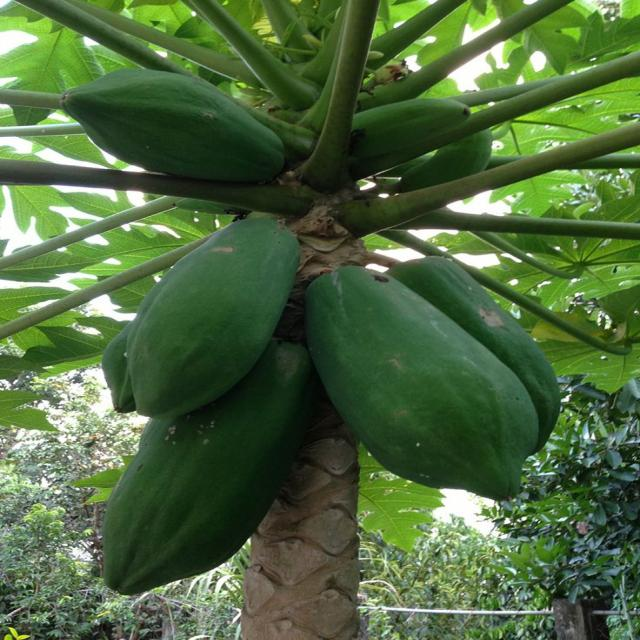Pepaya unrippen: (317, 265, 540, 513), (97, 356, 310, 594), (116, 211, 315, 427), (58, 65, 302, 176)
